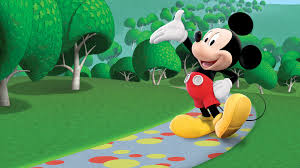mickey: (148, 9, 263, 141)
